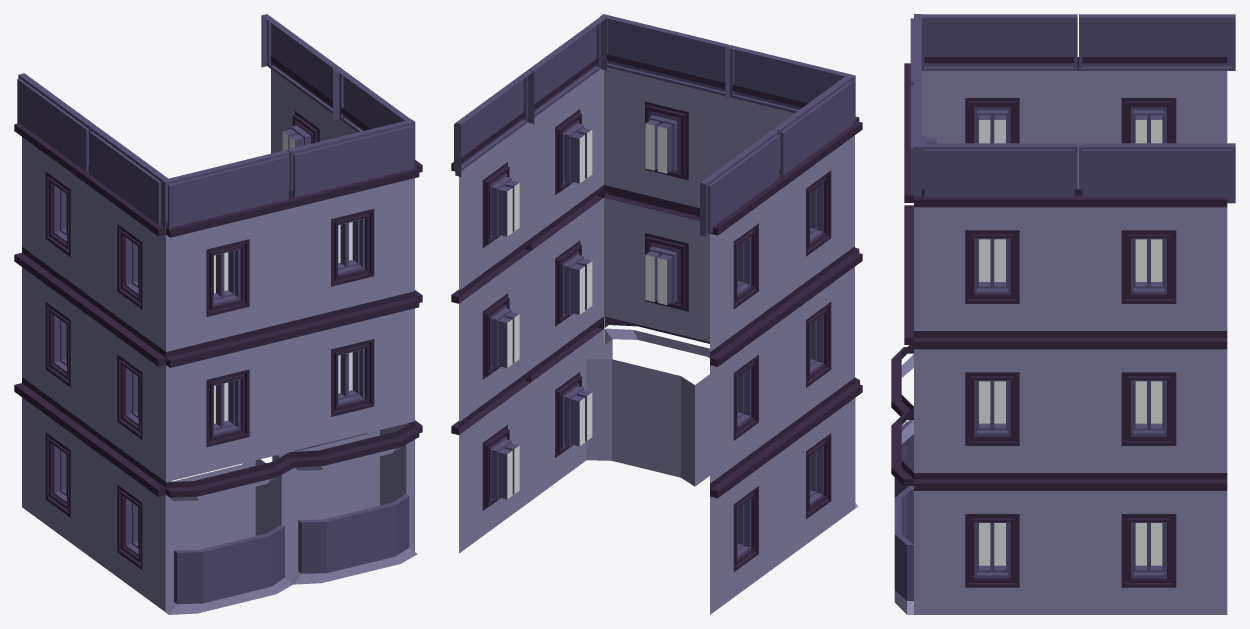
File: house1.fbx
3 renders of one model, left to right at view 1: azimuth 30°, elevation 25°; view 2: azimuth 150°, elevation 25°; view 3: azimuth 270°, elevation 25°, orthographic. The views are drawn at different scales.
Visible parts, largest first — view 1: House1; view 2: House1; view 3: House1.
Part boxes in pixels (x1,y1,x2,y2): House1: (14, 14, 422, 614); House1: (451, 14, 862, 614); House1: (891, 14, 1235, 614).
Size of the model in its own units: 212 by 330 by 220.
